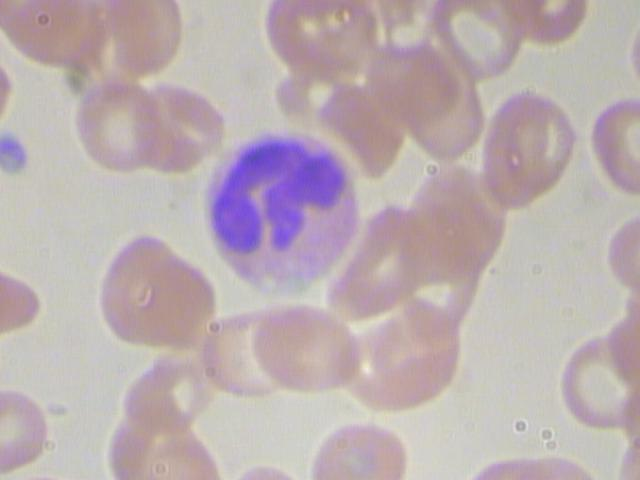Platelets: (0, 124, 35, 177)
RBC: (90, 227, 187, 348), (479, 89, 576, 210), (250, 301, 363, 394), (134, 78, 235, 174), (65, 80, 165, 176), (553, 330, 639, 434)
WBC: (203, 128, 361, 301)
